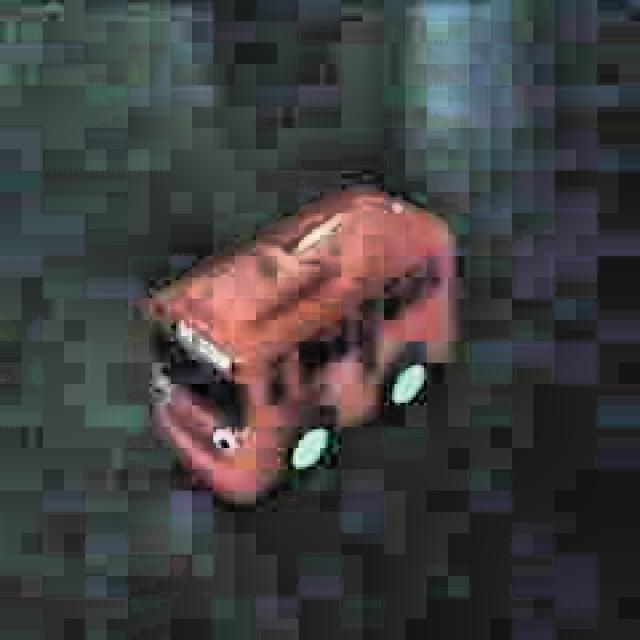bus: (135, 179, 465, 521)
